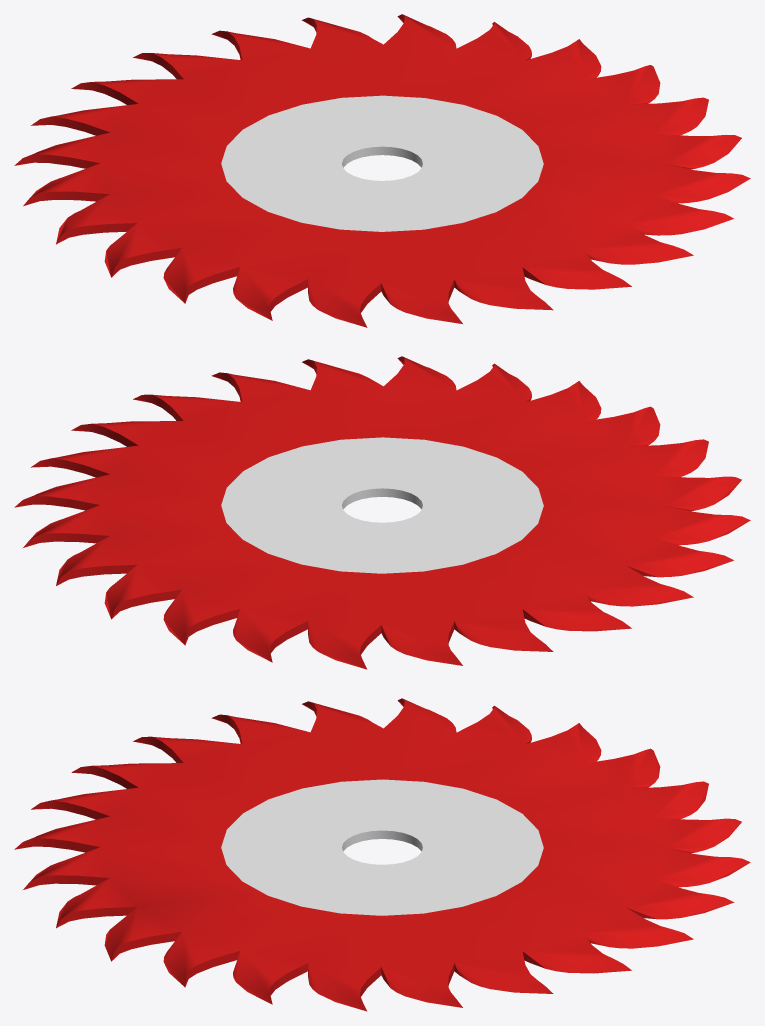
The model's file is Circular Saw.fbx.
The picture shows the model from 3 angles, top to bottom: view 1: azimuth 30°, elevation 25°; view 2: azimuth 150°, elevation 25°; view 3: azimuth 270°, elevation 25°; orthographic projection.
Visible parts, largest first — view 1: Circular Saw by TomKranis Sketchfab; view 2: Circular Saw by TomKranis Sketchfab; view 3: Circular Saw by TomKranis Sketchfab.
Part boxes in pixels (x1=…): Circular Saw by TomKranis Sketchfab: x1=14, y1=14, x2=750, y2=327; Circular Saw by TomKranis Sketchfab: x1=14, y1=356, x2=750, y2=669; Circular Saw by TomKranis Sketchfab: x1=14, y1=698, x2=750, y2=1011.
Size of the model in its own units: 13096 by 169 by 13096.
